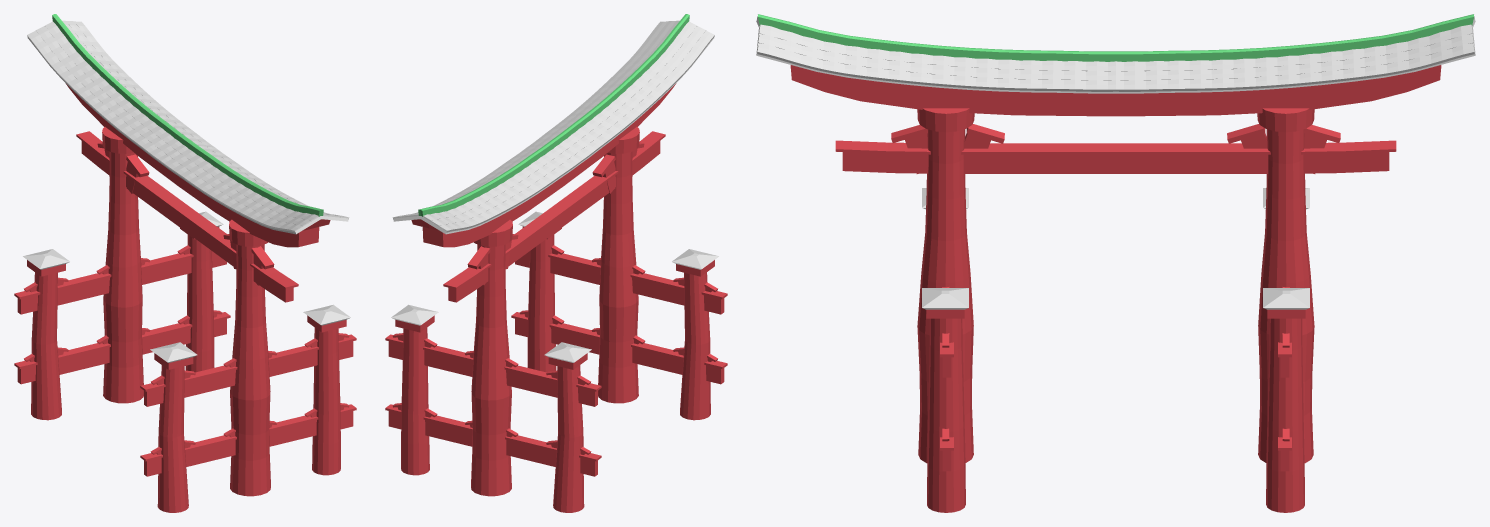
The model's file is bigGate.fbx.
3 renders of one model, left to right at view 1: azimuth 30°, elevation 25°; view 2: azimuth 150°, elevation 25°; view 3: azimuth 270°, elevation 25°, orthographic. The views are drawn at different scales.
Visible parts, largest first — view 1: Cylinder.002; view 2: Cylinder.002; view 3: Cylinder.002.
Part boxes in pixels (<box>): Cylinder.002: <box>14,14,356,512</box>; Cylinder.002: <box>385,14,727,512</box>; Cylinder.002: <box>756,14,1475,512</box>.
Size of the model in its own units: 314 by 468 by 692.
